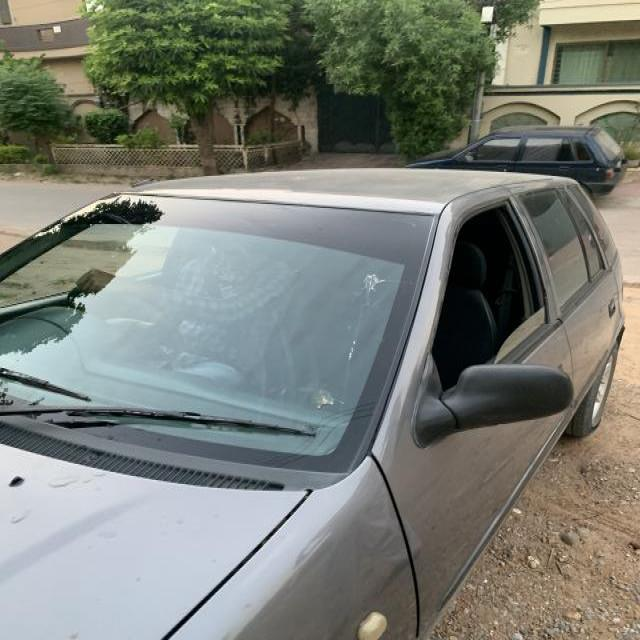seatbelt: (149, 218, 285, 392)
